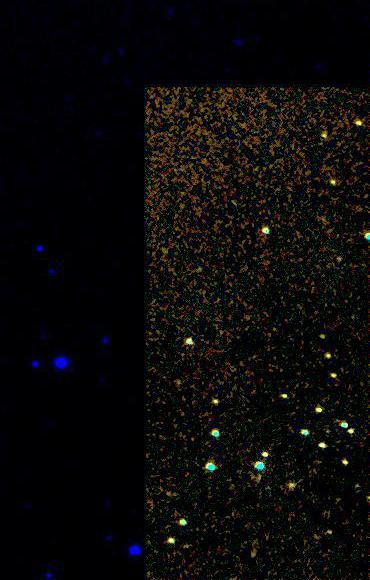star: (275, 468, 305, 498)
